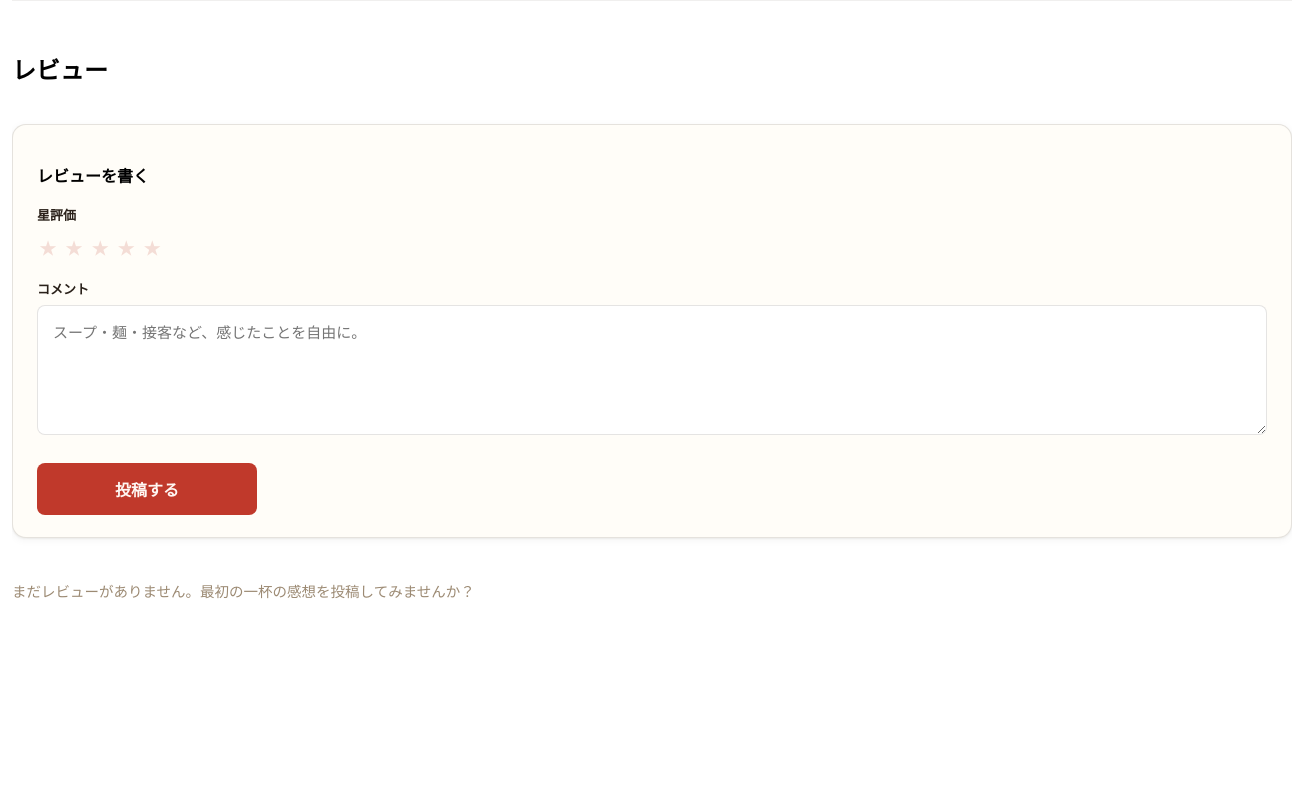
Test: ReviewSection › ReviewForm バリデーション › 星評価なしで送信すると検証エラーを表示する
The width and height of the screenshot is (1292, 800).
Expected: the button "投稿する" is shown, [37,463,257,515]
Step 1. Type "テストコメント" into the text box labelled "コメント" → (652,370), box [37,305,1267,435]
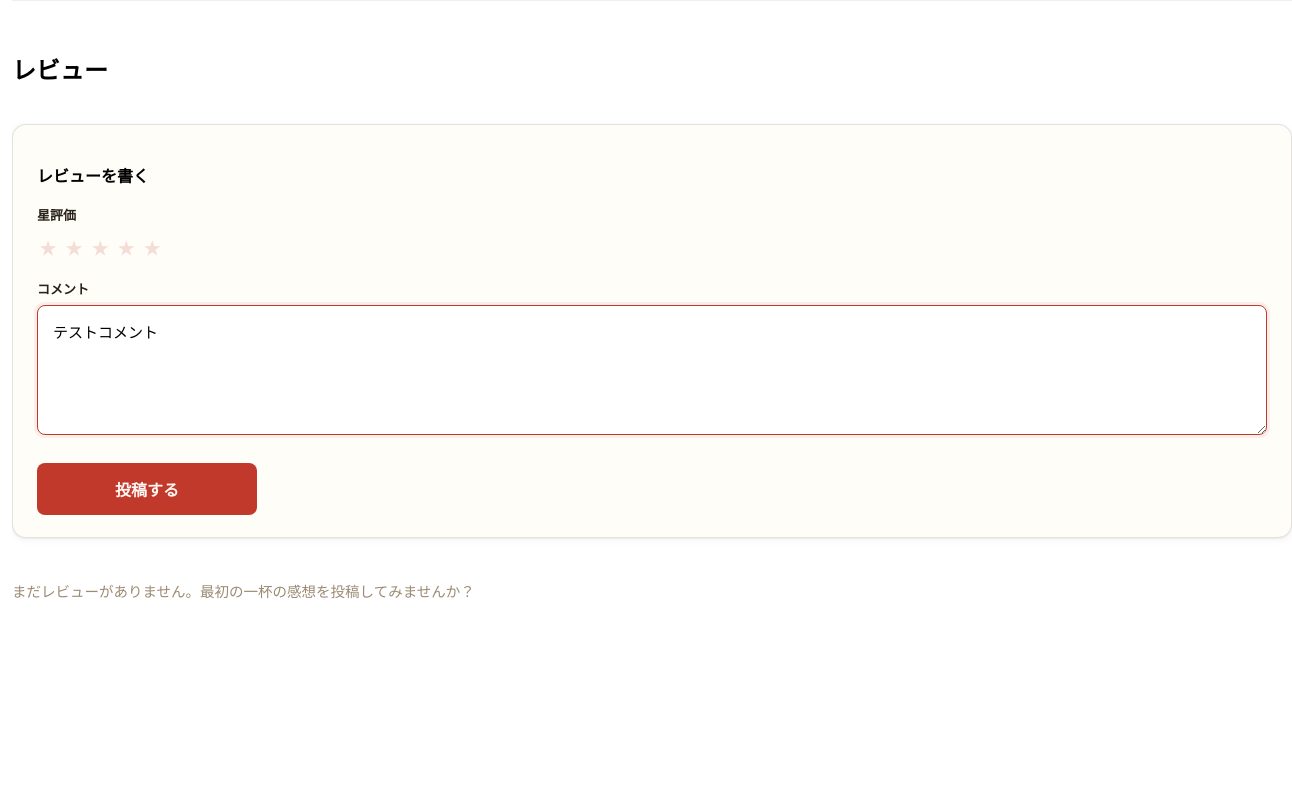
Step 2. Click the button "投稿する" → (147,489), box [37,463,257,515]
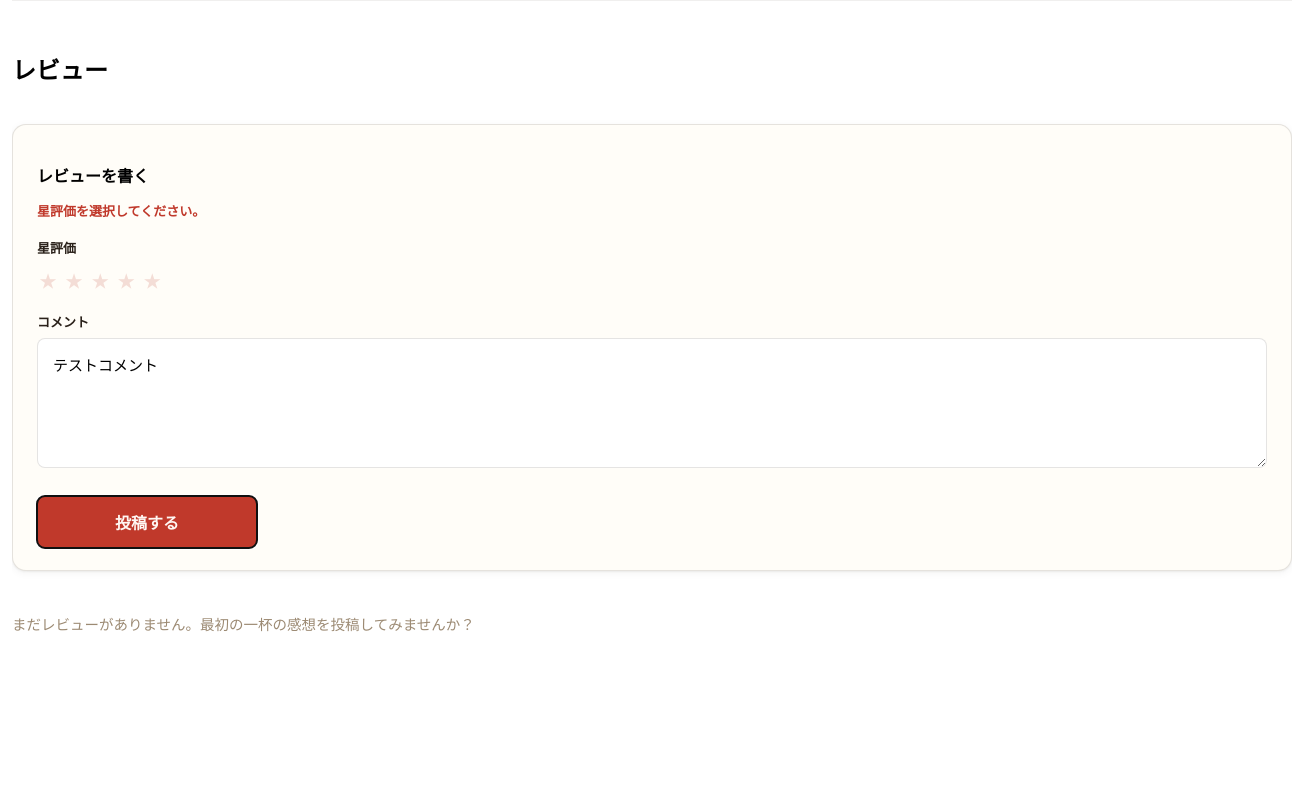
Now the text "星評価を選択してください。" is shown, box [37,204,205,219]
